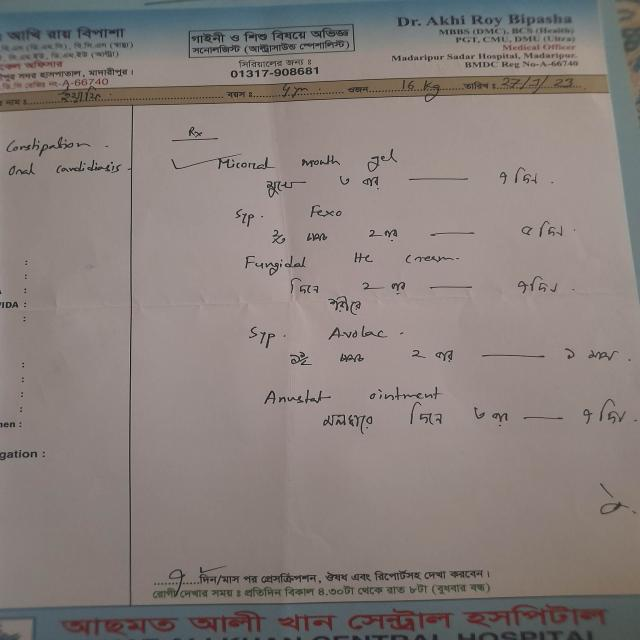Anustat: (252, 375, 339, 410)
Avlolac: (322, 325, 403, 345)
Fexo: (300, 203, 352, 222)
Fungidal HC: (236, 248, 378, 273)
Micoral: (211, 155, 280, 175)
